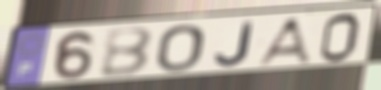0: (318, 12, 365, 63)
6: (52, 30, 97, 82)
A: (253, 15, 314, 68)
B: (98, 25, 156, 79)
J: (213, 20, 256, 68)
O: (154, 23, 207, 74)
